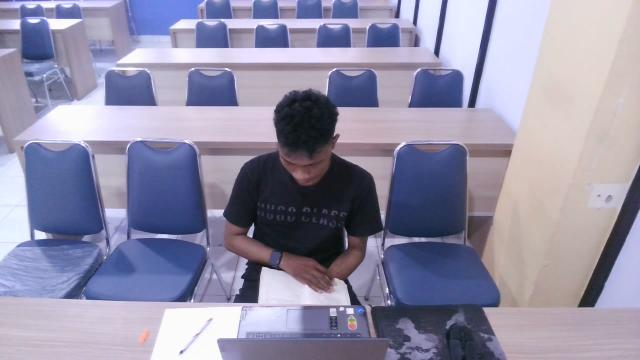Cheat_Sheet: (256, 259, 351, 305)
Head_Down_Extreme: (201, 79, 401, 320)
